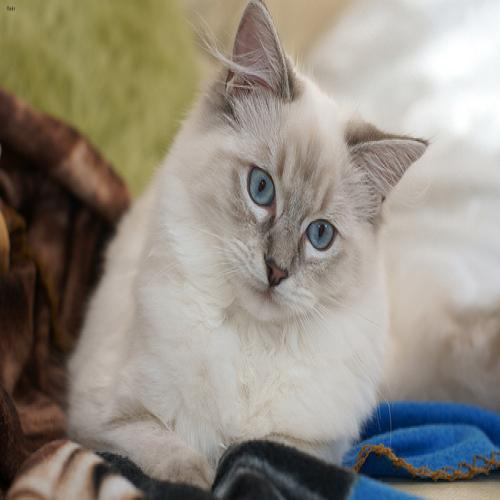ragdoll: (189, 1, 433, 352)
